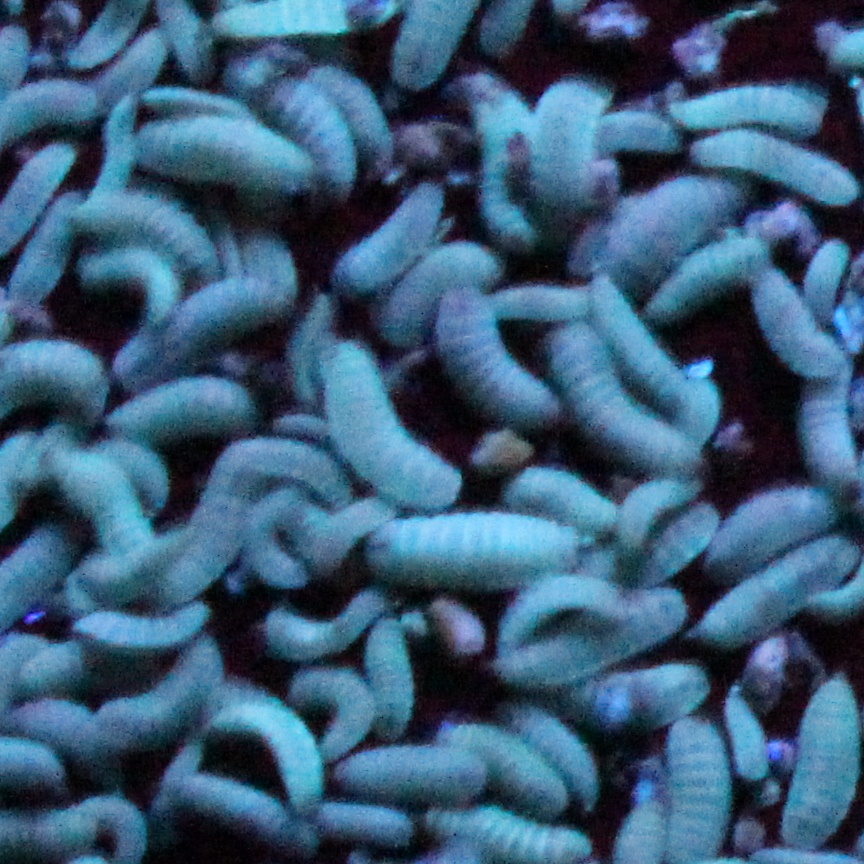larve: (316, 345, 463, 507), (543, 337, 697, 479), (453, 80, 564, 251), (121, 275, 285, 376), (701, 544, 858, 644), (496, 598, 677, 684), (435, 294, 553, 419), (122, 116, 311, 191), (605, 177, 734, 286), (366, 511, 577, 576), (592, 292, 703, 415), (780, 678, 859, 850), (707, 482, 838, 573), (177, 769, 311, 856), (290, 64, 393, 170), (48, 456, 163, 548), (217, 706, 322, 805), (339, 184, 435, 291), (79, 203, 217, 276), (649, 236, 777, 313), (264, 75, 348, 187), (386, 245, 496, 328), (106, 650, 218, 731), (449, 729, 563, 808), (208, 439, 344, 503), (665, 723, 727, 863), (547, 664, 707, 718), (327, 748, 486, 802), (111, 375, 250, 436), (538, 81, 603, 206), (77, 531, 190, 600), (670, 84, 824, 134), (161, 496, 233, 600), (503, 584, 627, 643), (284, 668, 374, 749), (760, 280, 838, 370), (79, 252, 180, 321), (513, 707, 591, 792), (79, 596, 217, 644), (208, 3, 404, 36), (18, 198, 80, 301), (247, 496, 316, 587), (308, 495, 396, 566), (801, 359, 850, 485), (269, 598, 371, 658), (611, 484, 696, 554), (647, 497, 713, 584), (512, 477, 614, 531), (12, 696, 109, 750), (712, 692, 768, 784), (372, 612, 411, 740), (16, 639, 105, 695), (149, 745, 207, 824), (105, 28, 161, 108), (484, 281, 591, 321), (105, 442, 165, 505), (305, 808, 416, 840), (596, 111, 677, 152), (807, 243, 851, 318), (142, 90, 253, 119), (101, 98, 133, 192), (259, 418, 343, 439)
